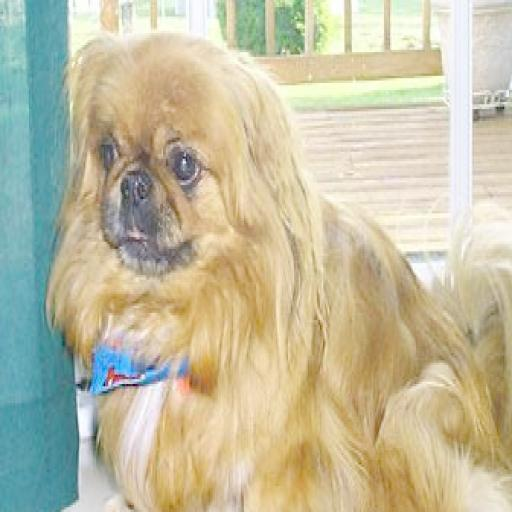dog_face: (69, 40, 292, 284)
